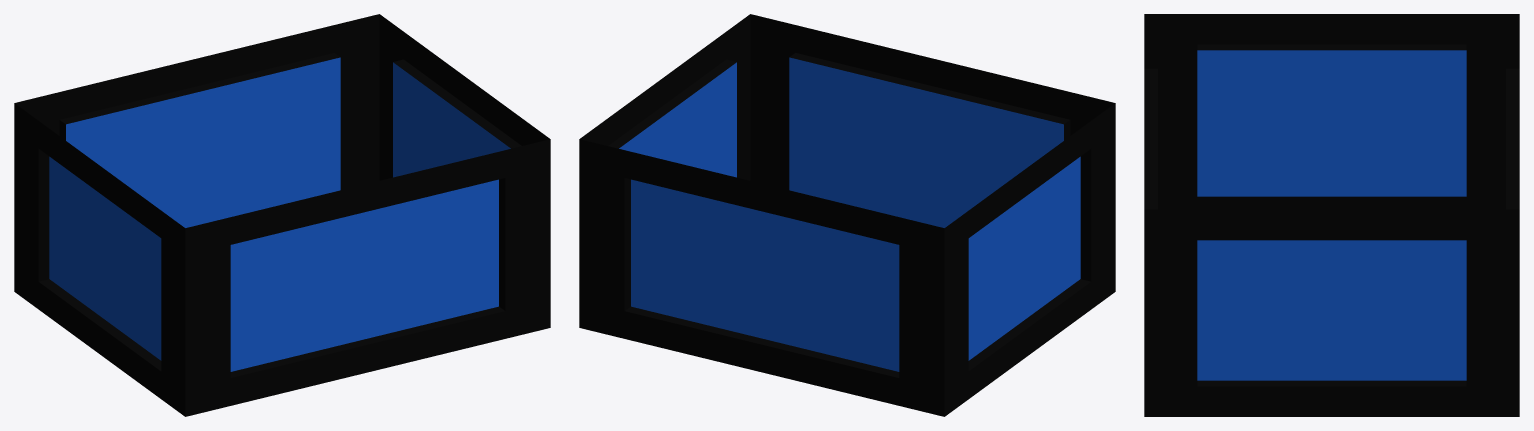
Rendered from CityBuildingD_03_floor.fbx.
3 renders of one model, left to right at view 1: azimuth 30°, elevation 25°; view 2: azimuth 150°, elevation 25°; view 3: azimuth 270°, elevation 25°, orthographic. The views are drawn at different scales.
Visible parts, largest first — view 1: CityBuildingD_03_floor; view 2: CityBuildingD_03_floor; view 3: CityBuildingD_03_floor.
Part boxes in pixels (x1,y1,x2,y2): CityBuildingD_03_floor: (14, 14, 550, 416); CityBuildingD_03_floor: (579, 14, 1115, 416); CityBuildingD_03_floor: (1144, 14, 1519, 416).
Bounding box in the file's own units: 0.6706 × 0.3312 × 0.5438.
